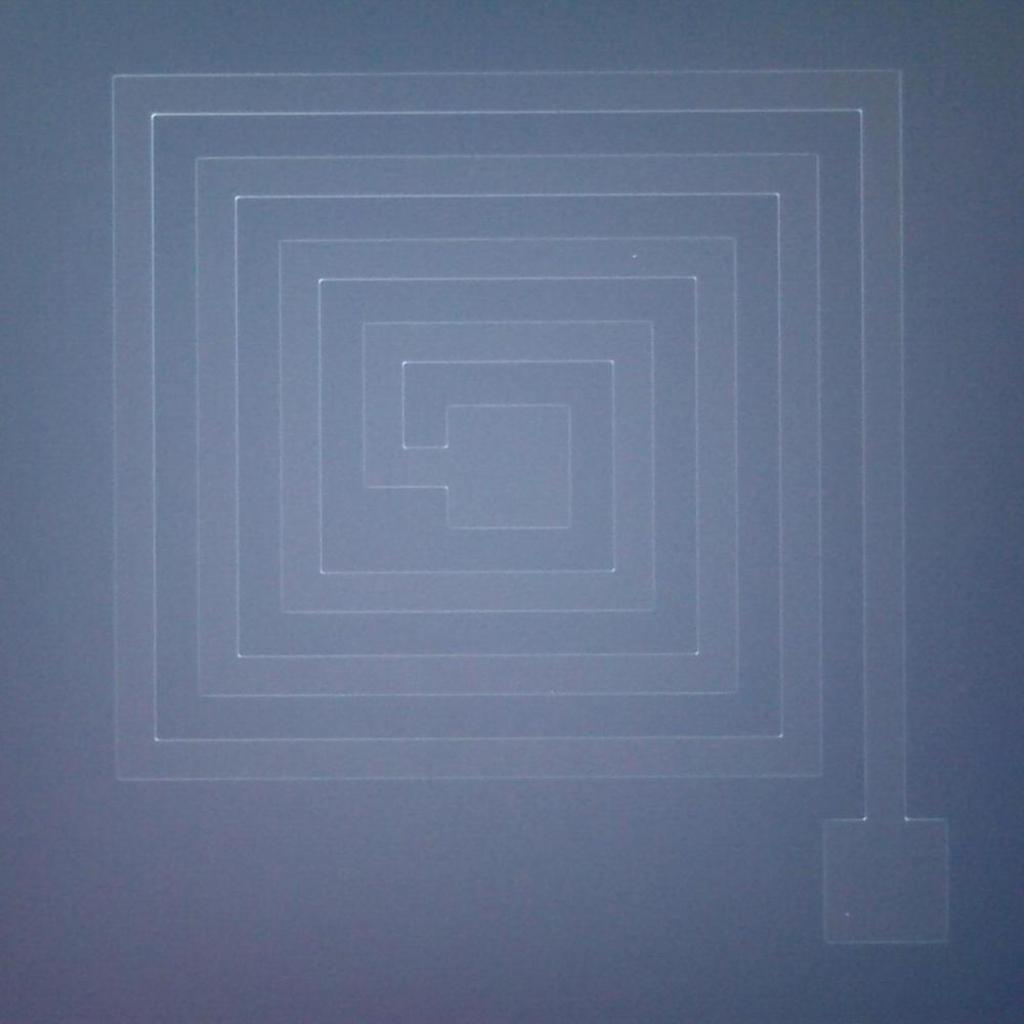dot: (631, 253, 638, 260)
